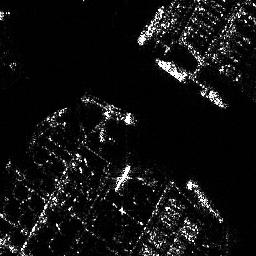ship: (80, 91, 137, 126), (185, 178, 223, 224), (135, 4, 165, 45), (154, 57, 188, 83), (199, 88, 227, 109)
